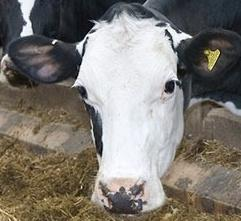muzzles: (89, 175, 166, 219)
